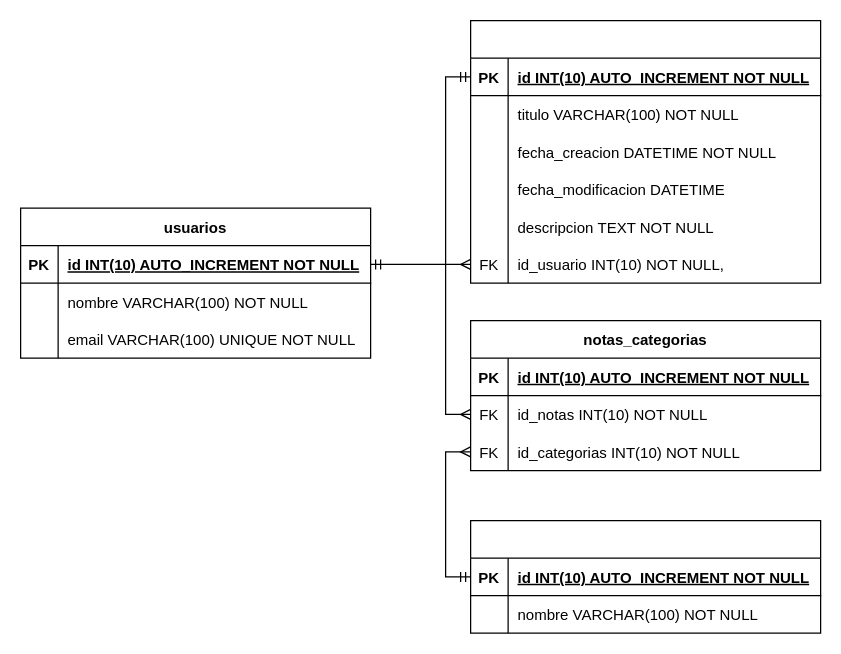
Some shapes in this 841 by 654 pixel diagram are drawn without their labels. Here are the shapes that lost their labels. From the top down, the box of each, then its label:
(469, 19, 821, 283): notas
(469, 519, 821, 633): categorias
